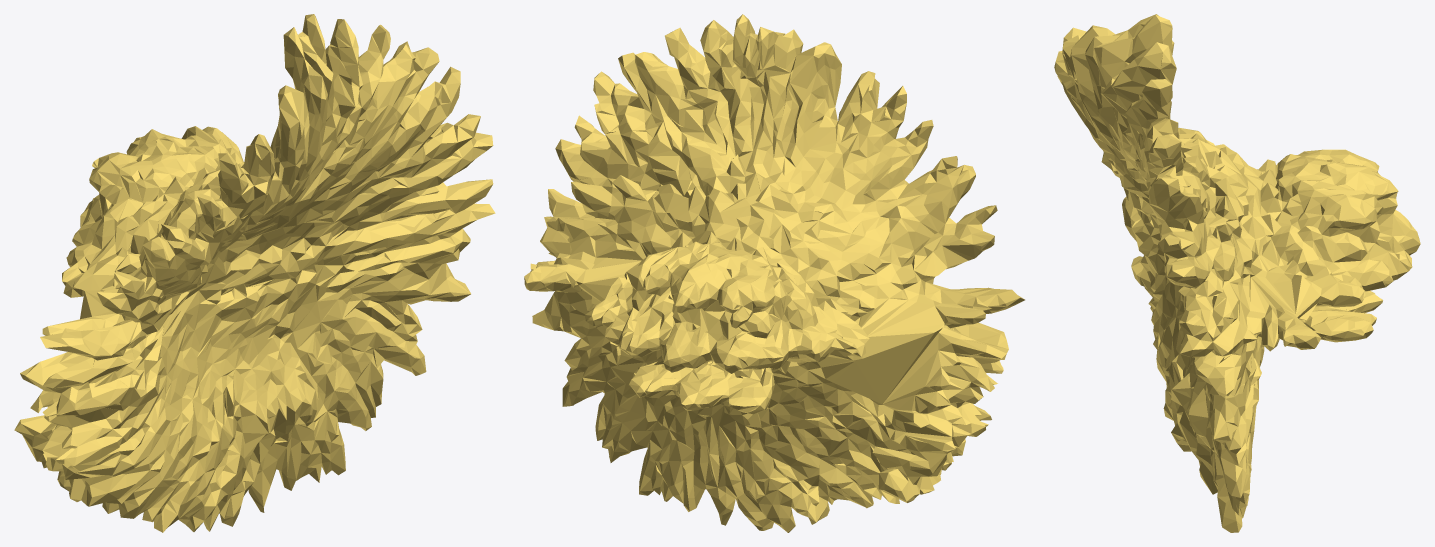
The model's file is improved.glb.
3 views of the same model, side by side, from view 1: azimuth 30°, elevation 25°; view 2: azimuth 150°, elevation 25°; view 3: azimuth 270°, elevation 25° (orthographic). The views are drawn at different scales.
Visible parts, largest first — view 1: world; view 2: world; view 3: world.
Part boxes in pixels (bbox=[...]): world: bbox=[14, 14, 495, 532]; world: bbox=[524, 14, 1024, 532]; world: bbox=[1054, 14, 1420, 532].
Size of the model in its own units: 0.6 by 0.6222 by 0.4095.
